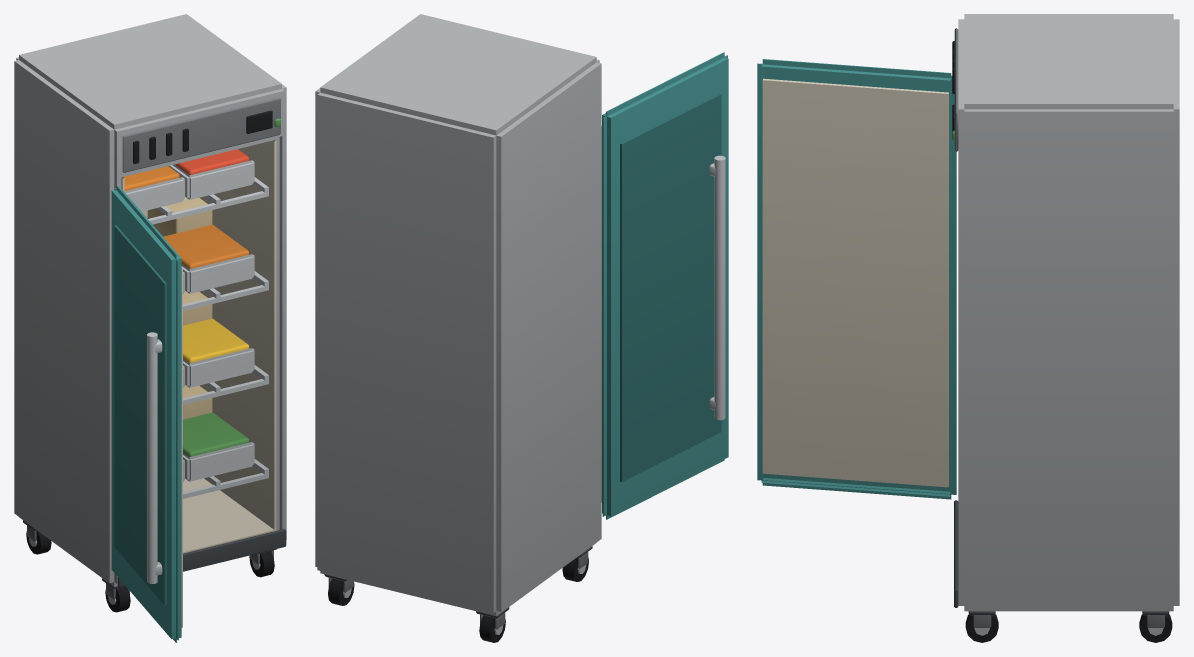
File: SM_ReachIn_Open_075.glb
3 renders of one model, left to right at view 1: azimuth 30°, elevation 25°; view 2: azimuth 150°, elevation 25°; view 3: azimuth 270°, elevation 25°, orthographic. The views are drawn at different scales.
Parts seen in each view (by area): view 1: SM_ReachIn_Open_075; view 2: SM_ReachIn_Open_075; view 3: SM_ReachIn_Open_075.
Boxes of the visible parts, bbox=[...] form: SM_ReachIn_Open_075: bbox=[14, 14, 286, 642]; SM_ReachIn_Open_075: bbox=[315, 14, 728, 642]; SM_ReachIn_Open_075: bbox=[757, 14, 1179, 642].
Size of the model in its own units: 0.9175 by 2 by 1.41.
1 material, 1 textured.
